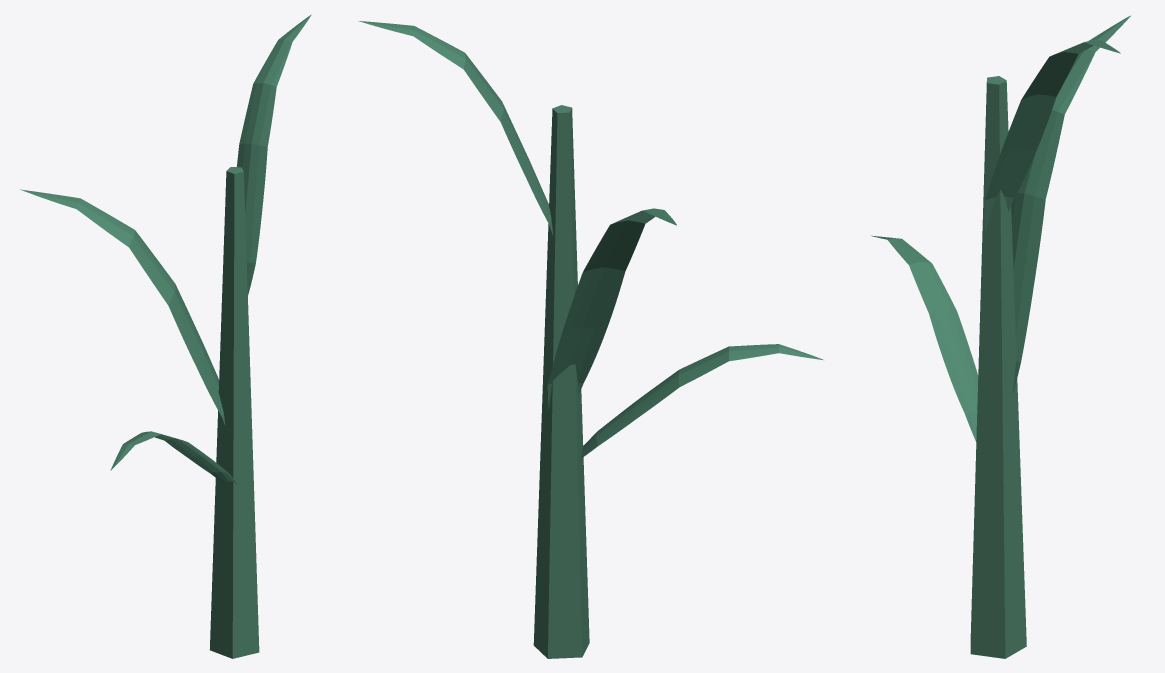
Rendered from mombaca_grass_small.fbx.
3 renders of one model, left to right at view 1: azimuth 30°, elevation 25°; view 2: azimuth 150°, elevation 25°; view 3: azimuth 270°, elevation 25°, orthographic. The views are drawn at different scales.
Parts seen in each view (by area): view 1: Cylinder.013; view 2: Cylinder.013; view 3: Cylinder.013.
Part boxes in pixels (x1,y1,x2,y2): Cylinder.013: (20, 14, 311, 658); Cylinder.013: (358, 21, 823, 658); Cylinder.013: (871, 15, 1130, 658).
Size of the model in its own units: 35.3 by 59.29 by 23.96.
